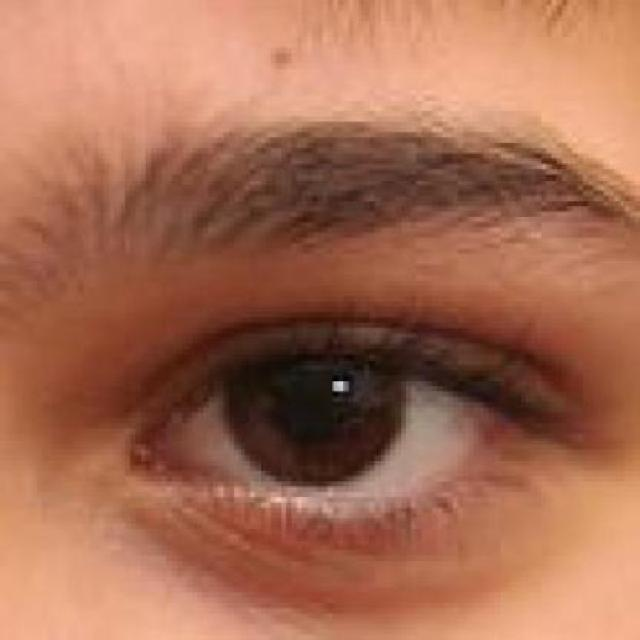awake: (125, 317, 557, 561)
